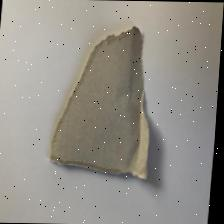paper: (49, 20, 169, 188)
